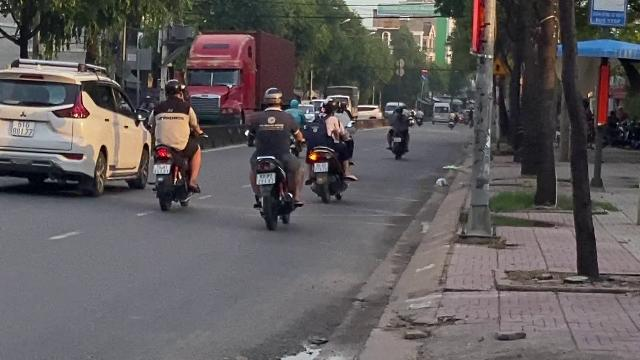helmet: (260, 87, 282, 109), (162, 78, 182, 98)
licenseplate: (256, 172, 274, 184), (153, 164, 169, 172)
motorcyclist: (243, 87, 304, 229), (148, 78, 204, 212)
